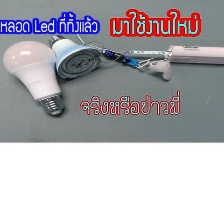light_bulb: (0, 38, 66, 120), (45, 29, 107, 85)
